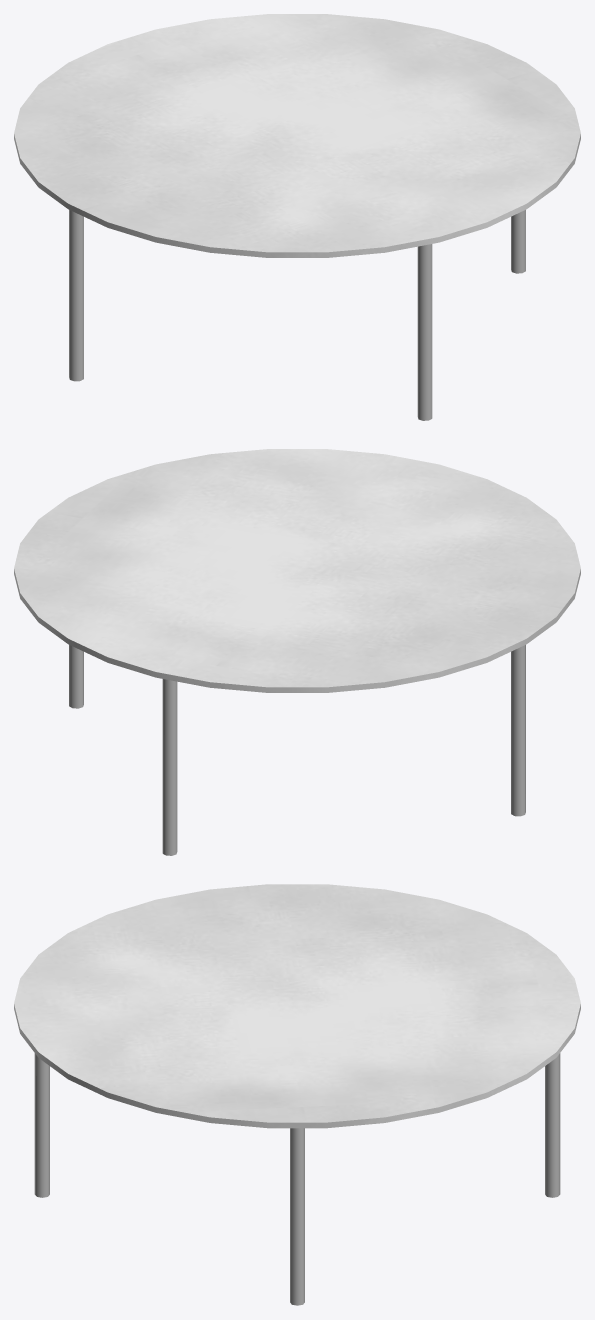
File: table_2.fbx
3 renders of one model, top to bottom at view 1: azimuth 30°, elevation 25°; view 2: azimuth 150°, elevation 25°; view 3: azimuth 270°, elevation 25°, orthographic.
Parts seen in each view (by area): view 1: table_2; view 2: table_2; view 3: table_2.
Part boxes in pixels (<box>): table_2: <box>14,14,580,420</box>; table_2: <box>14,449,580,855</box>; table_2: <box>14,884,580,1305</box>.
Bounding box in the file's own units: 1.99 × 0.7443 × 2.
